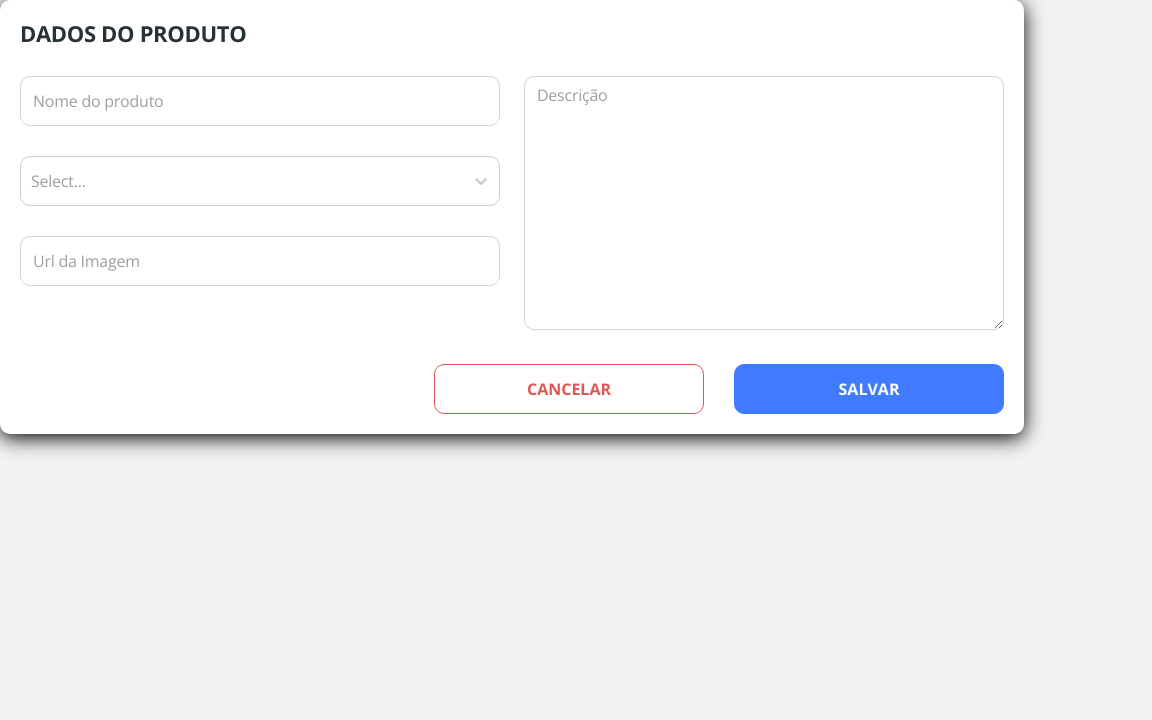
Scenario: Product form creat tests › Should show 5 validations messages when clicking submit
Click the button "SALVAR" at (869, 389), box [734,364,1004,414]
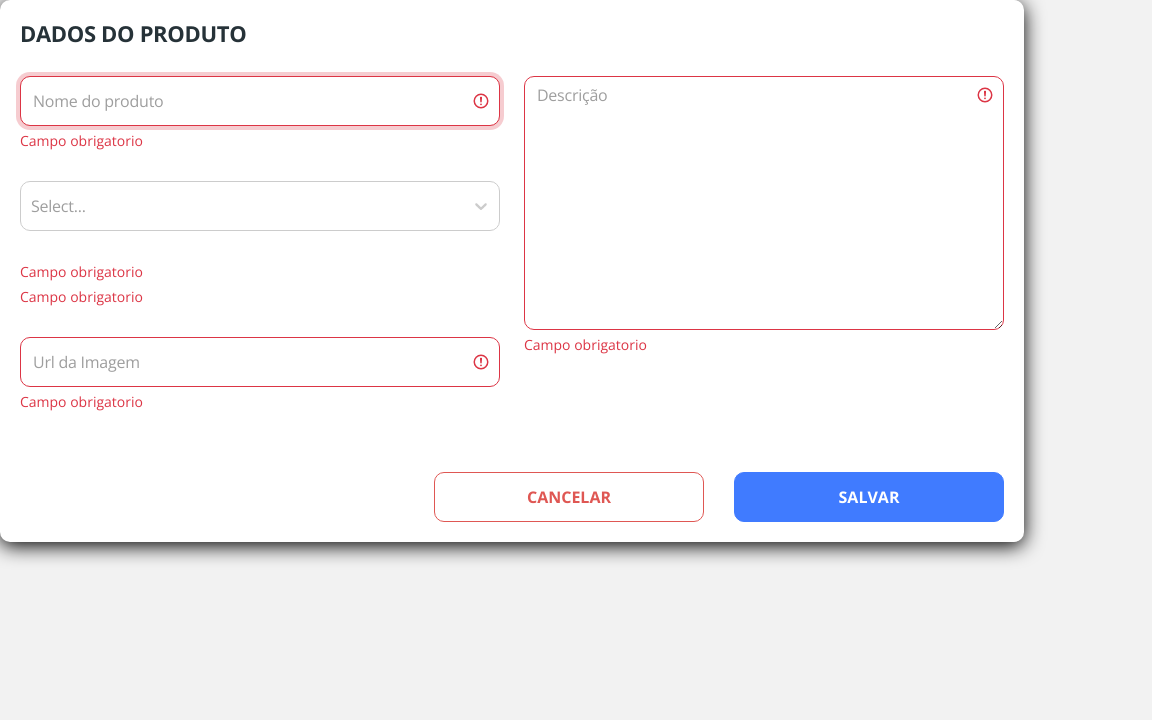
expect the text "Campo obrigatorio" is shown 5 times: met, box [20,131,143,150]; [20,262,143,281]; [20,287,143,306]; [20,392,143,411]; [524,335,647,354]
